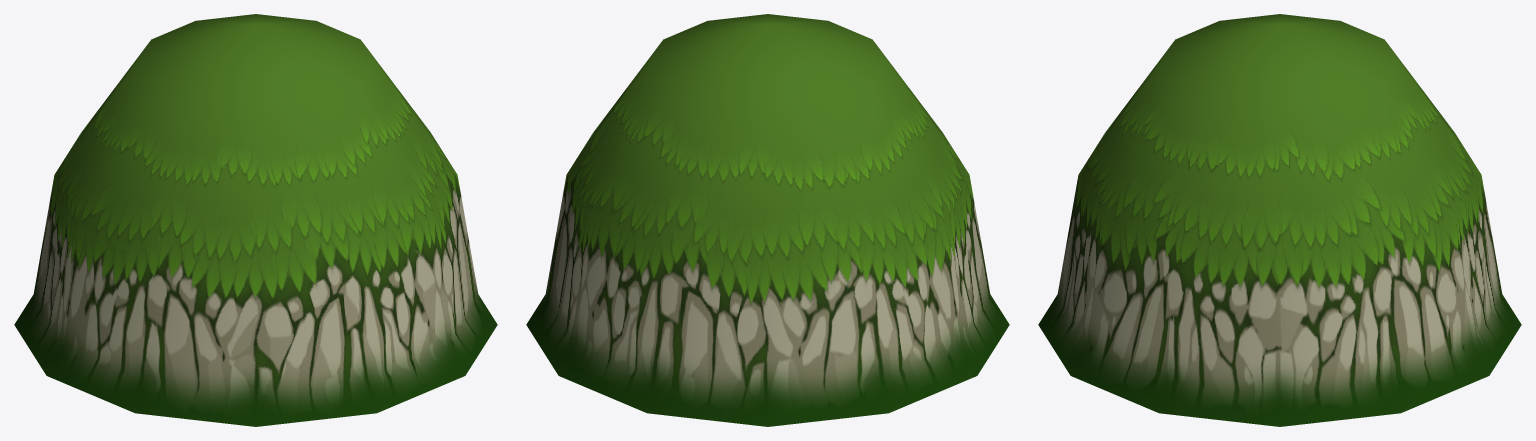
The model's file is Hill4.glb.
The picture shows the model from 3 angles, left to right: view 1: azimuth 30°, elevation 25°; view 2: azimuth 150°, elevation 25°; view 3: azimuth 270°, elevation 25°; orthographic projection.
Visible parts, largest first — view 1: Hill_04; view 2: Hill_04; view 3: Hill_04.
Part boxes in pixels (left/top/right/bottom): Hill_04: left=14, top=14, right=497, bottom=426; Hill_04: left=526, top=14, right=1009, bottom=426; Hill_04: left=1038, top=14, right=1521, bottom=426.
Size of the model in its own units: 121 by 83.06 by 121.
1 material, 1 textured.
